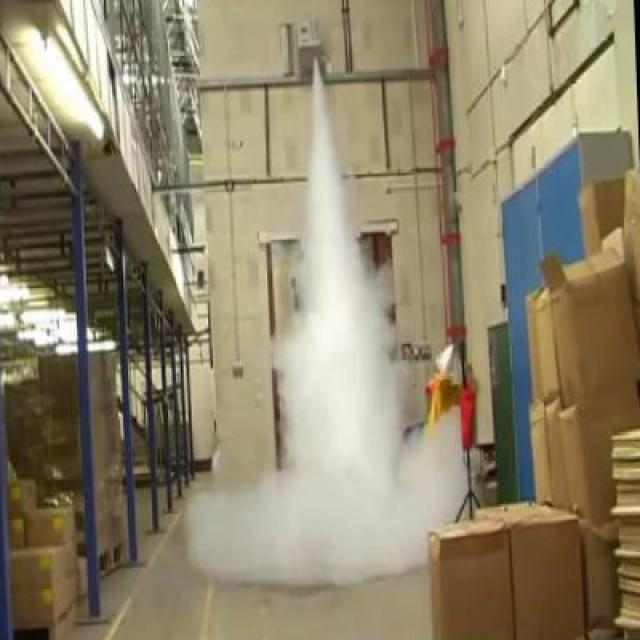fire: (180, 421, 482, 592), (268, 101, 402, 464)
